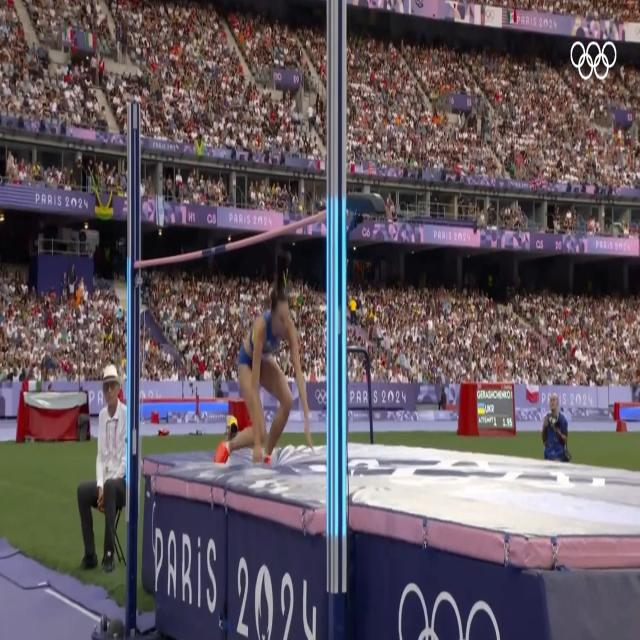land: (212, 287, 318, 462)
